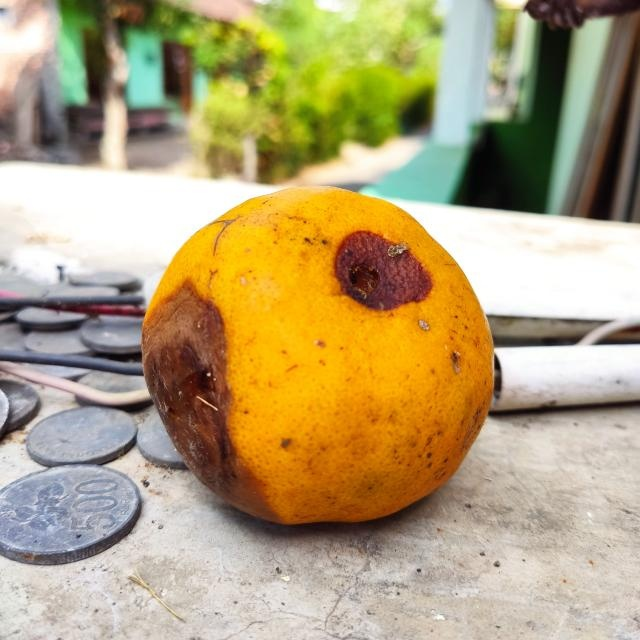agrume: (137, 184, 499, 525)
